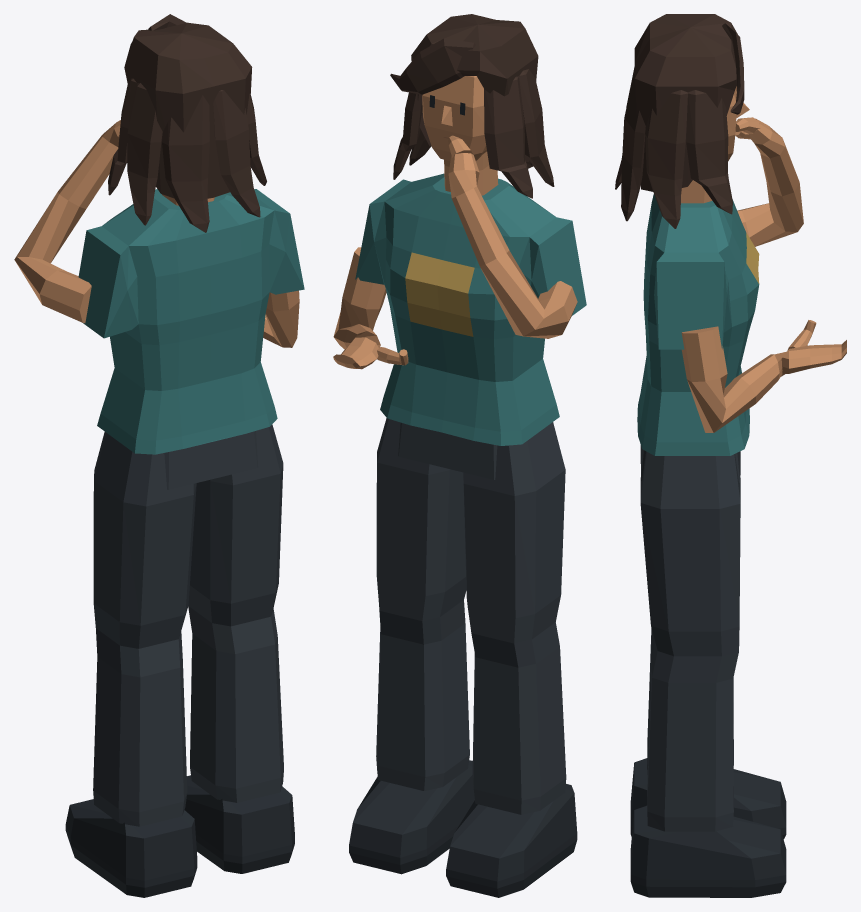
File: lwf_attendee_female_eating_v1.glb
3 renders of one model, left to right at view 1: azimuth 30°, elevation 25°; view 2: azimuth 150°, elevation 25°; view 3: azimuth 270°, elevation 25°, orthographic.
Parts seen in each view (by area): view 1: Attendee_female_eating; view 2: Attendee_female_eating; view 3: Attendee_female_eating.
Part boxes in pixels (left/top/right/bottom): Attendee_female_eating: left=14, top=14, right=304, bottom=897; Attendee_female_eating: left=333, top=14, right=586, bottom=897; Attendee_female_eating: left=615, top=14, right=846, bottom=897.
Size of the model in its own units: 0.5435 by 1.75 by 0.4449.
Materials: 1 (1 with a texture image).
